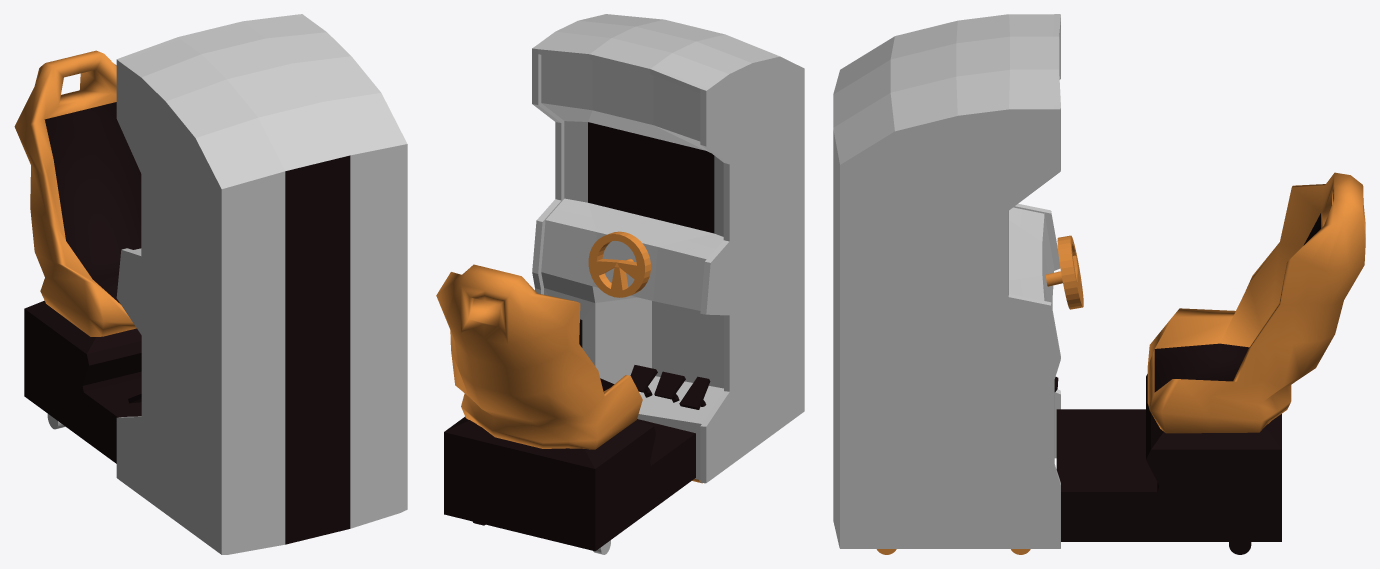
File: drive-arcade-5000.fbx
3 views of the same model, side by side, from view 1: azimuth 30°, elevation 25°; view 2: azimuth 150°, elevation 25°; view 3: azimuth 270°, elevation 25° (orthographic). The views are drawn at different scales.
Parts seen in each view (by area): view 1: Cylinder.013; view 2: Cylinder.013, pantalla-runrun; view 3: Cylinder.013.
Boxes of the visible parts, x1=… form: Cylinder.013: x1=14, y1=14, x2=407, y2=554; Cylinder.013: x1=436, y1=14, x2=804, y2=554; pantalla-runrun: x1=588, y1=122, x2=714, y2=233; Cylinder.013: x1=833, y1=14, x2=1365, y2=554.
Bounding box in the file's own units: 67.84 × 155 × 160.
